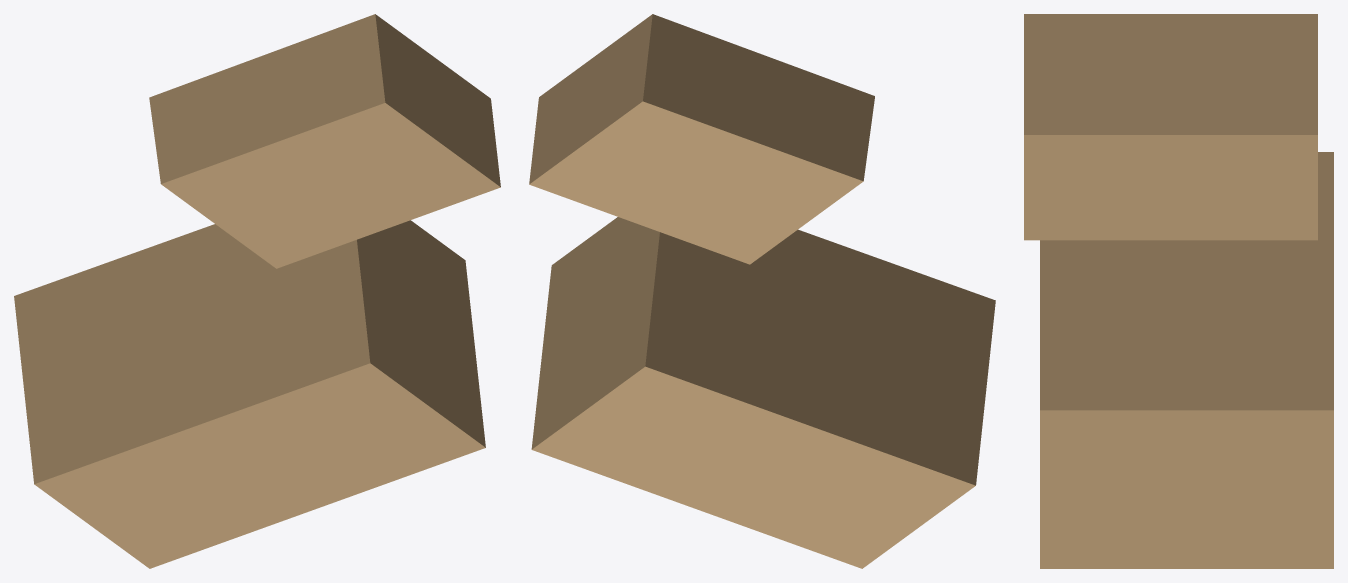
3 views of the same model, side by side, from view 1: azimuth 30°, elevation 25°; view 2: azimuth 150°, elevation 25°; view 3: azimuth 270°, elevation 25° (orthographic). The views are drawn at different scales.
Parts seen in each view (by area): view 1: 0_3_0_1_1_2_0_3_1; view 2: 0_3_0_1_1_2_0_3_1; view 3: 0_3_0_1_1_2_0_3_1.
Part boxes in pixels (bbox=[...]): 0_3_0_1_1_2_0_3_1: bbox=[14, 14, 500, 568]; 0_3_0_1_1_2_0_3_1: bbox=[529, 14, 995, 568]; 0_3_0_1_1_2_0_3_1: bbox=[1024, 14, 1333, 568].
Bounding box in the file's own units: 43.75 × 45.03 × 25.3.
